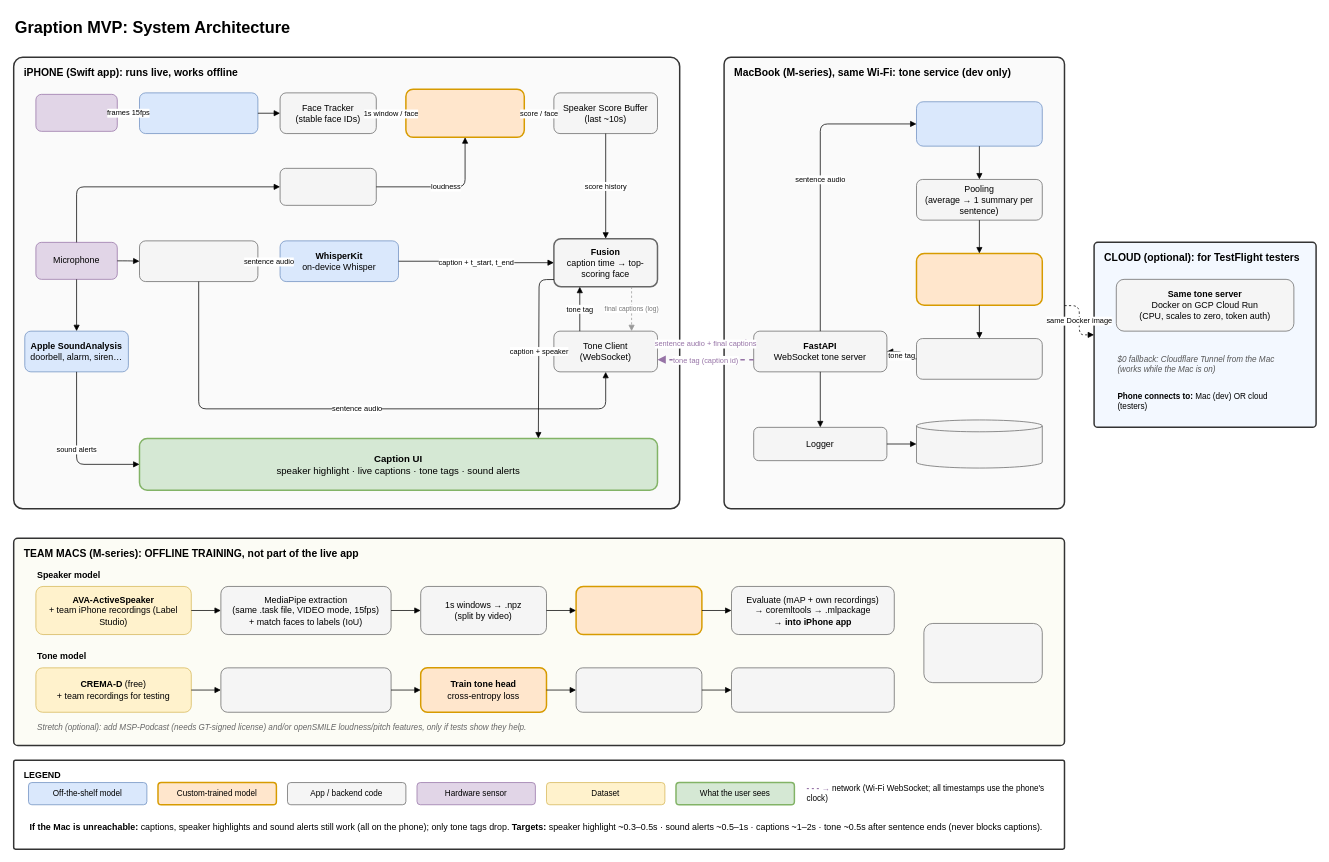
This 1329x862 diagram has some shape labels left out. The centre of each missing label's shape, as x and y in pixels:
Camera: point 76,112
Head weights → Mac (Core ML → phone later): point 812,689
Loudness per frame: point 327,186
MediaPipe landmarks + blendshapes: point 198,113
Precompute WavLM summaries (once, split by actor): point 305,689
Speaker Detection GRU, Core ML (custom): point 465,113
SQLite captions + eval data: point 979,443
Tag Mapper (show only confident tones): point 979,358
Test vs audEERING baseline on team recordings: point 638,689
Tone Head (custom) emotion + confidence week 1: audEERING model instead: point 979,279
Train GRU BCE loss, class weights: point 638,610
VAD splits audio into sentences: point 198,261
WavLM-base+ (frozen) 768 numbers per 20ms of audio: point 979,123
Weights & Biases every training run logged: point 982,653
